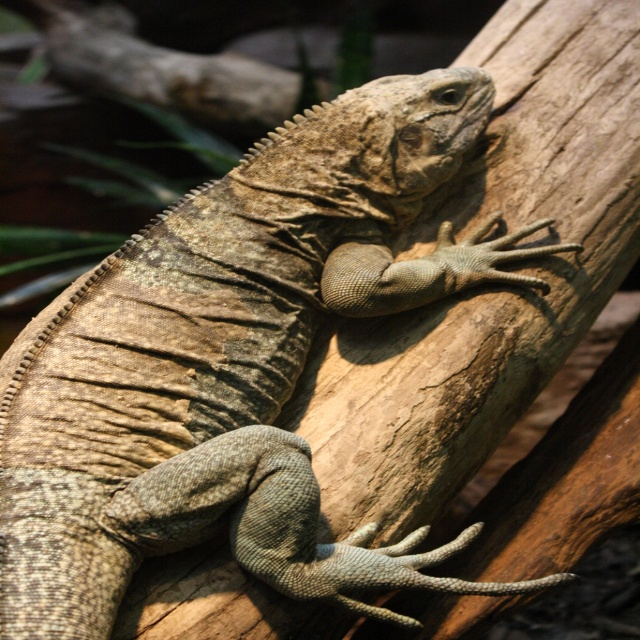Lizard: (20, 68, 596, 611)
